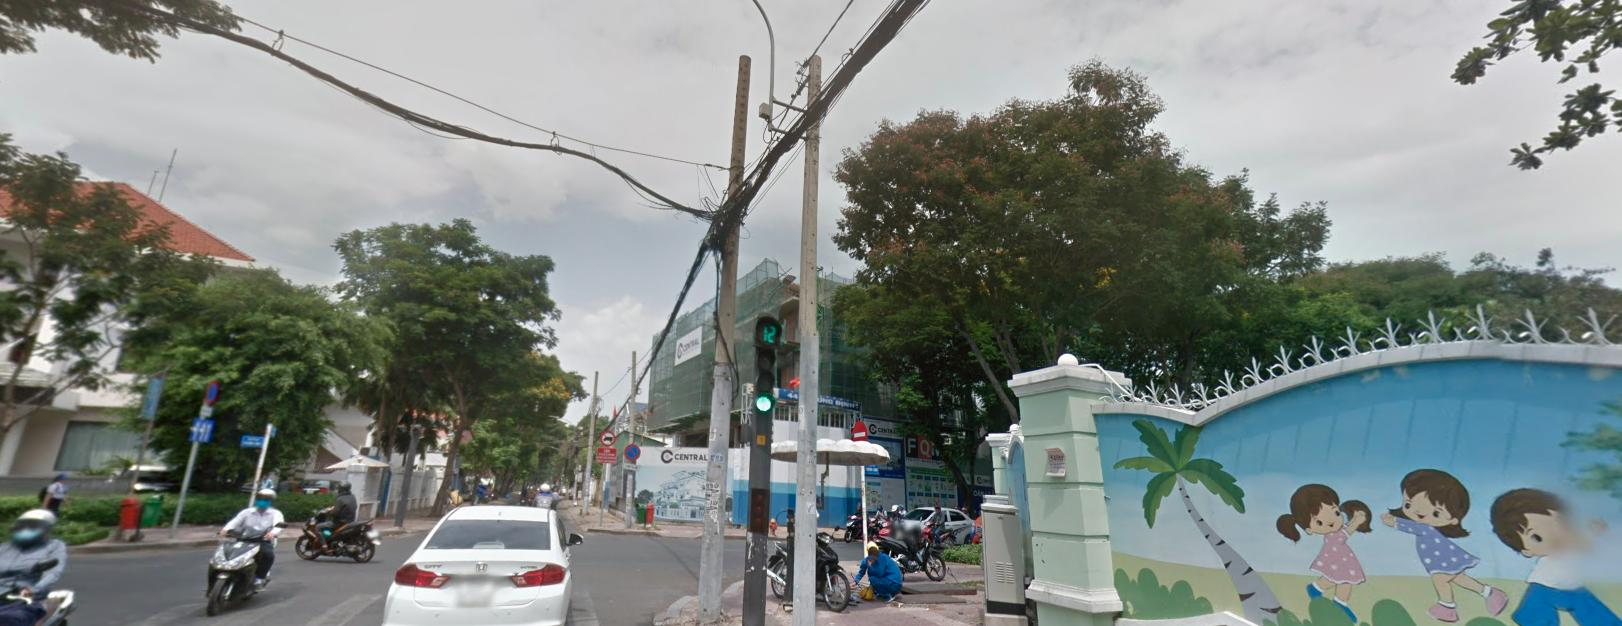Cam con lai: (600, 429, 614, 444)
Cam dung va do: (205, 378, 218, 403), (623, 443, 639, 459)
Cam nguoc chieu: (851, 419, 866, 446)
